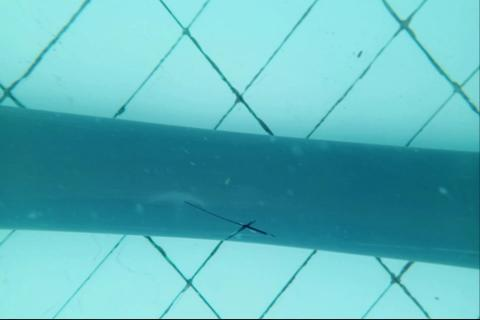keretakan: (184, 201, 278, 243)
